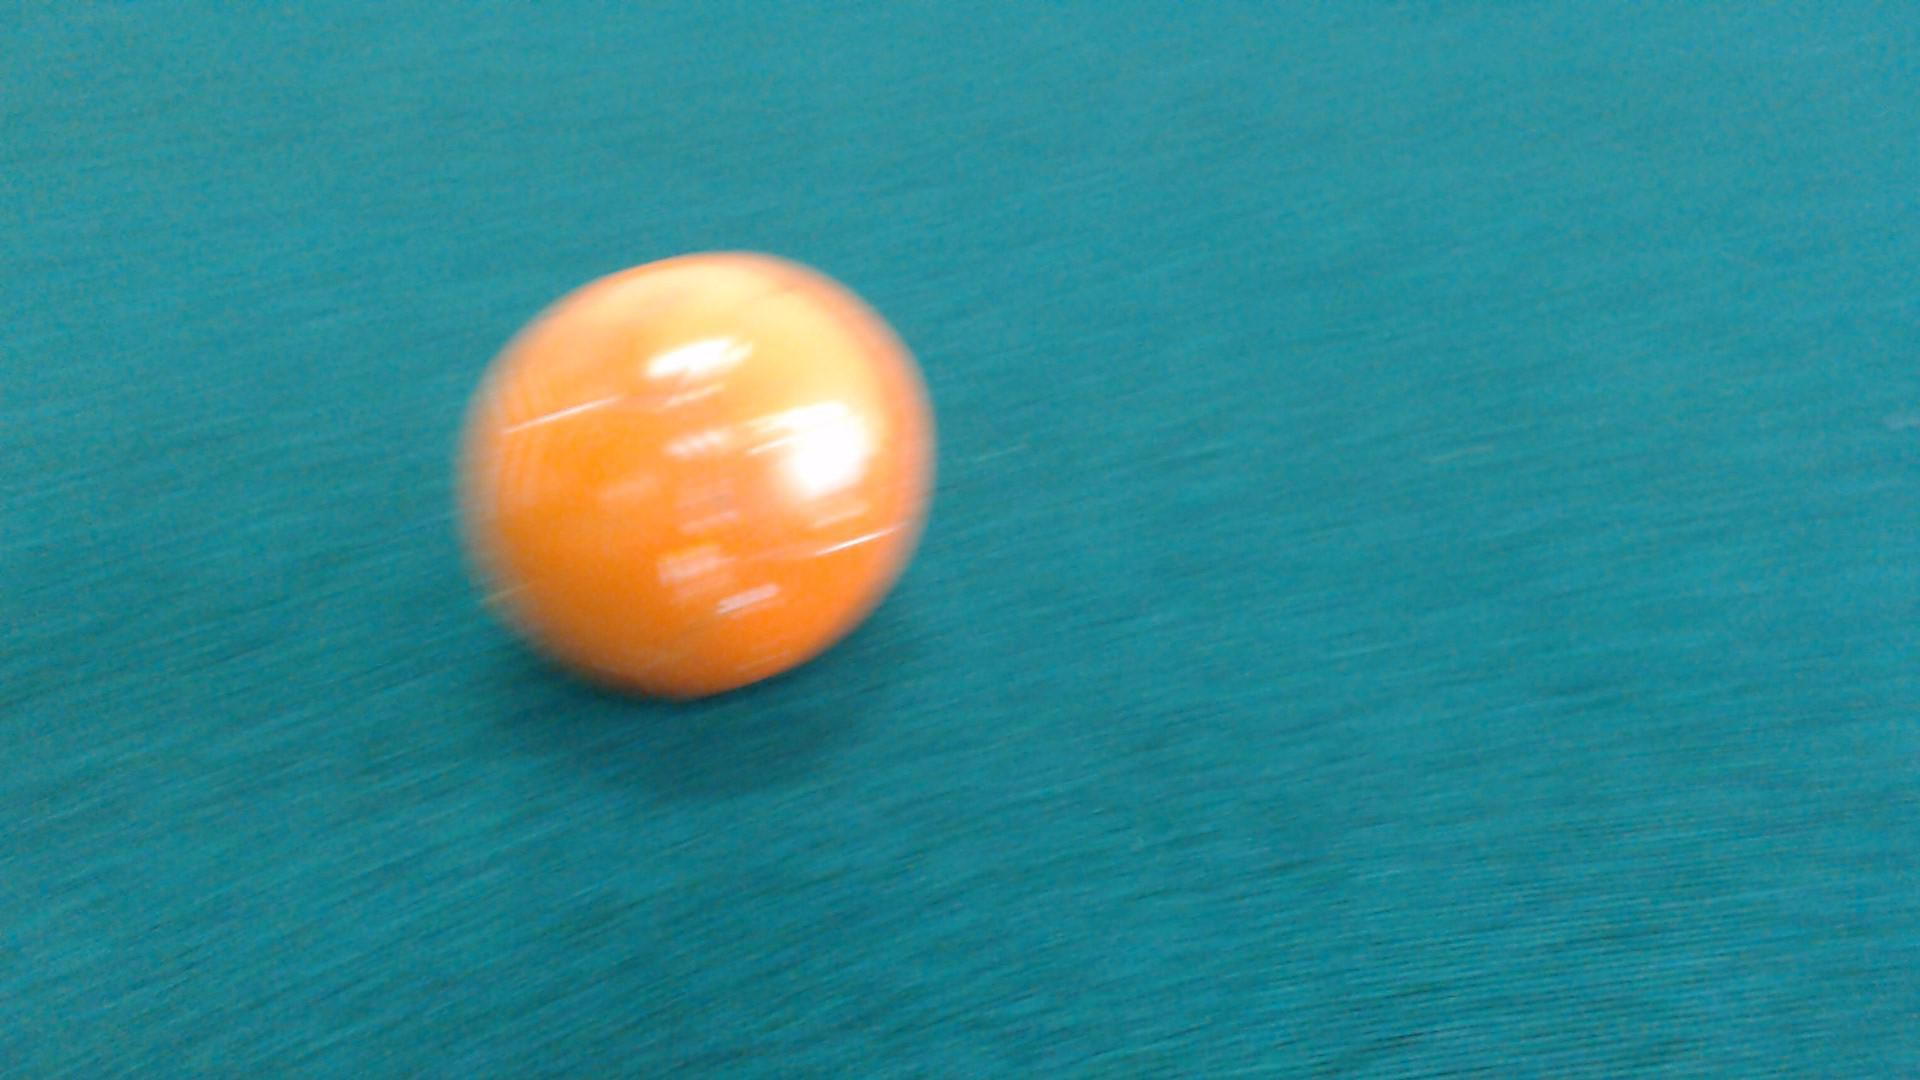bola: (429, 215, 936, 711)
